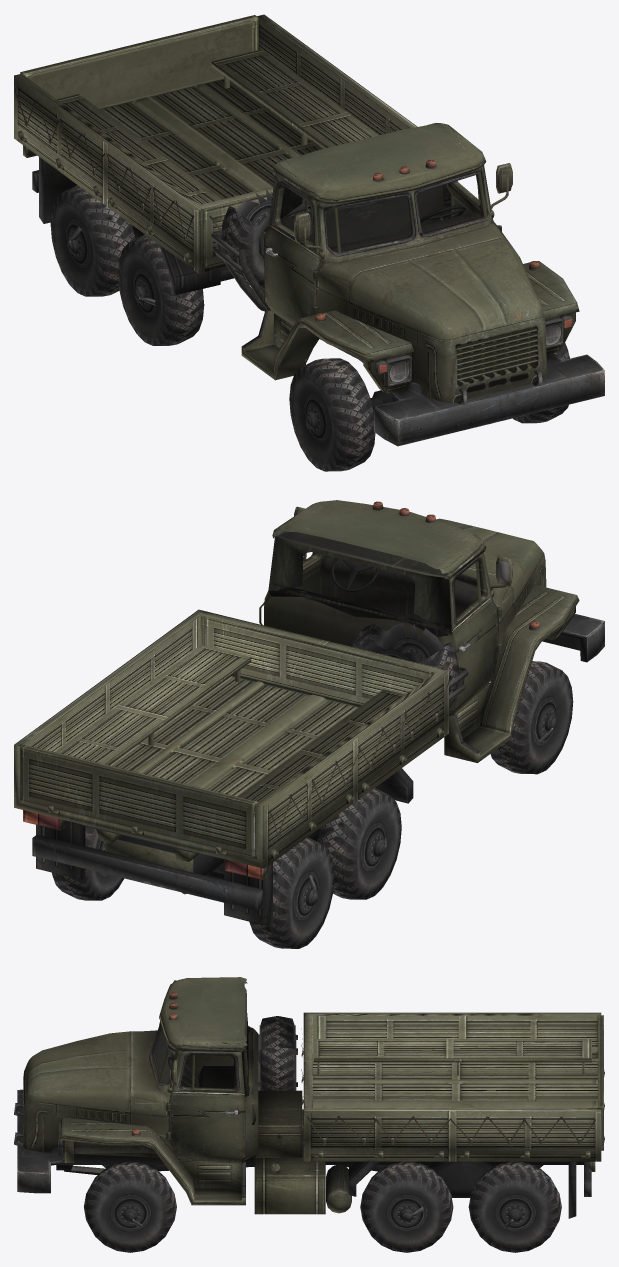
The model's file is ural4320_open.glb.
3 views of the same model, one above another, from view 1: azimuth 30°, elevation 25°; view 2: azimuth 150°, elevation 25°; view 3: azimuth 270°, elevation 25° (orthographic). The views are drawn at different scales.
Visible parts, largest first — view 1: Body; view 2: Body; view 3: Body.
Boxes of the visible parts, <box> form: Body: <box>14,14,604,471</box>; Body: <box>14,500,604,948</box>; Body: <box>14,977,604,1252</box>.
Bounding box in the file's own units: 3.06 × 2.91 × 7.57.
1 material, 1 textured.
